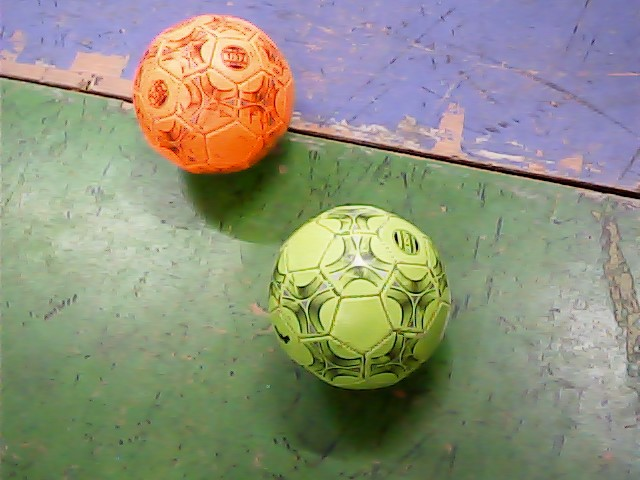Green_ball: (259, 204, 460, 394)
Orange_ball: (133, 15, 308, 180)
